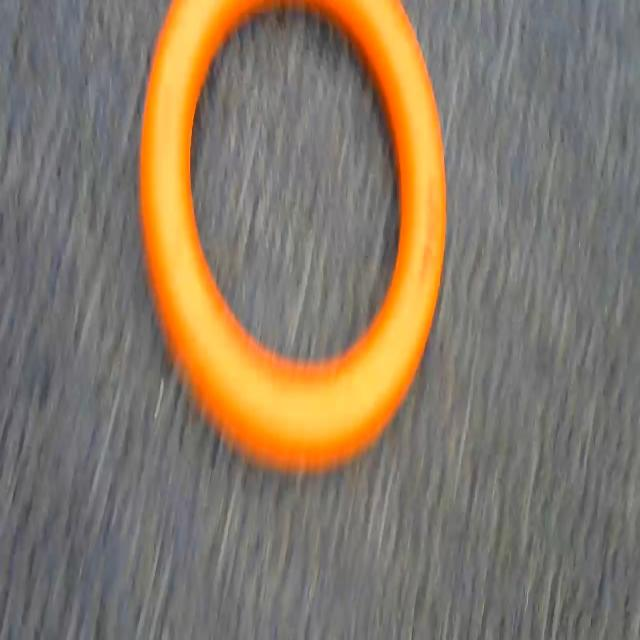note: (137, 0, 450, 489)
